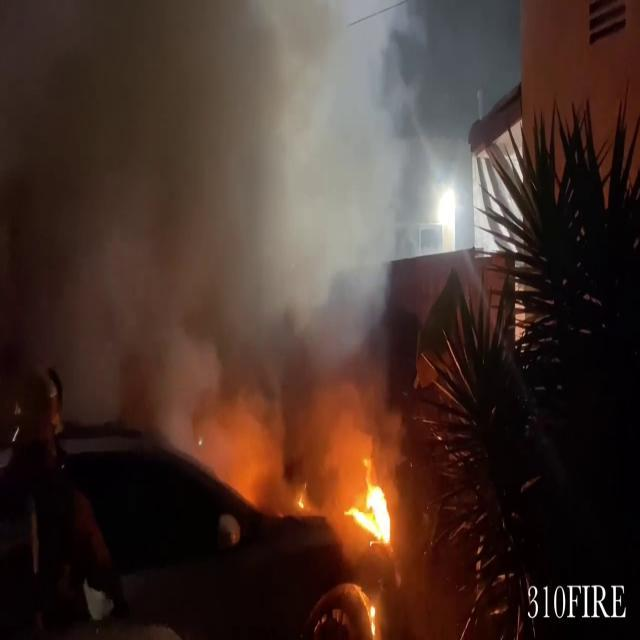Fire: (344, 470, 397, 546)
Smoke: (1, 0, 397, 504)
